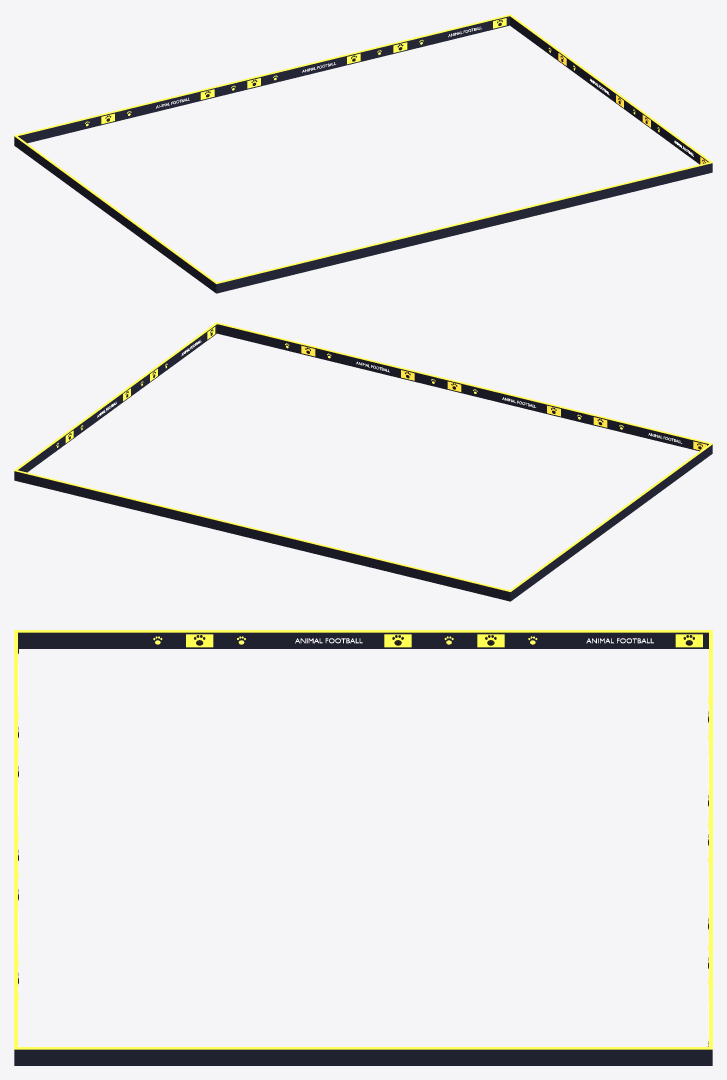
The model's file is SM_Zoo_Boards.glb.
3 views of the same model, one above another, from view 1: azimuth 30°, elevation 25°; view 2: azimuth 150°, elevation 25°; view 3: azimuth 270°, elevation 25° (orthographic). The views are drawn at different scales.
Parts seen in each view (by area): view 1: SM_Zoo_Boards; view 2: SM_Zoo_Boards; view 3: SM_Zoo_Boards.
Boxes of the visible parts, left/top/right/bottom form: SM_Zoo_Boards: left=14, top=14, right=712, bottom=293; SM_Zoo_Boards: left=14, top=322, right=712, bottom=601; SM_Zoo_Boards: left=14, top=630, right=712, bottom=1065.
Bounding box in the file's own units: 54.4 × 1.06 × 38.4.
